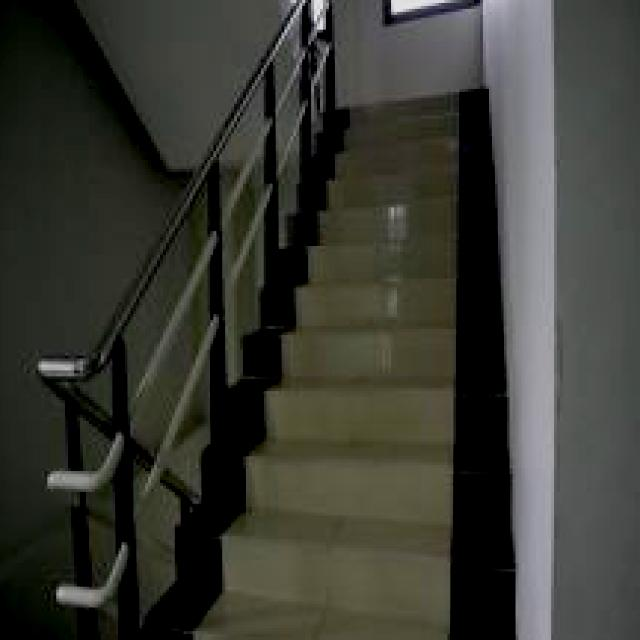upstair: (318, 96, 514, 640)
